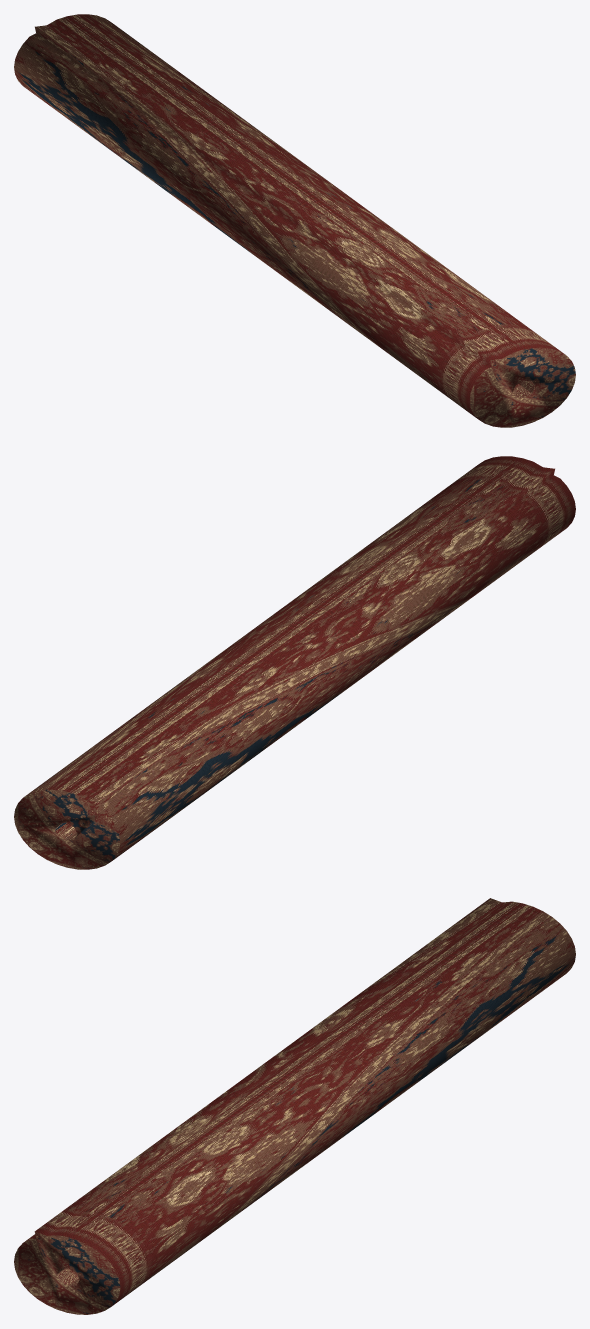
File: Rug-LQ.fbx
The picture shows the model from 3 angles, top to bottom: view 1: azimuth 30°, elevation 25°; view 2: azimuth 150°, elevation 25°; view 3: azimuth 330°, elevation 25°; orthographic projection.
Parts seen in each view (by area): view 1: Rug LQ; view 2: Rug LQ; view 3: Rug LQ.
Part boxes in pixels (x1=…): Rug LQ: x1=14, y1=14, x2=575, y2=427; Rug LQ: x1=14, y1=456, x2=575, y2=869; Rug LQ: x1=14, y1=898, x2=575, y2=1314.
Bounding box in the file's own units: 26.98 × 18.41 × 200.
